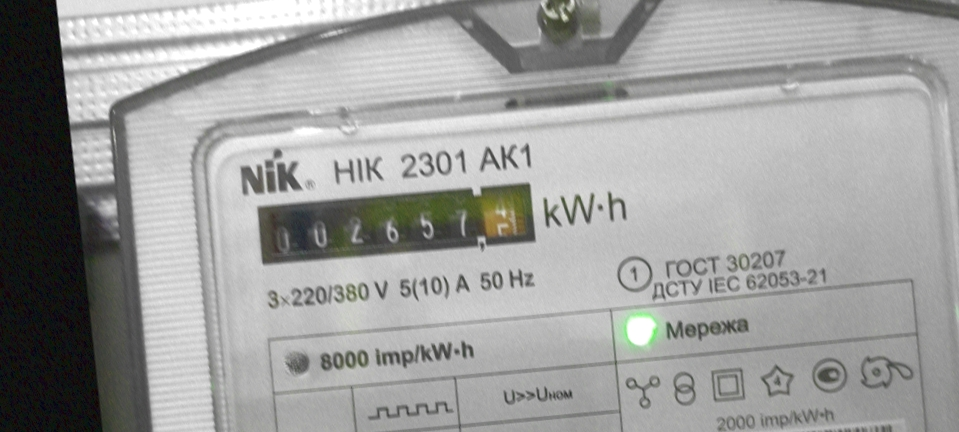0: (274, 224, 294, 254), (312, 218, 330, 249)
2: (348, 214, 367, 245)
4: (493, 192, 510, 219)
5: (419, 209, 438, 241), (496, 221, 513, 237)
6: (384, 213, 402, 244)
7: (455, 206, 473, 239)
screen: (248, 165, 550, 283)
